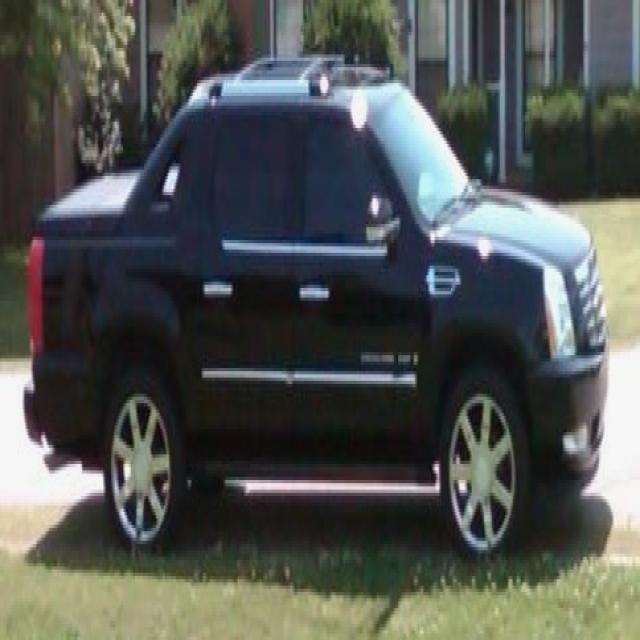CMT: (20, 47, 609, 573)
